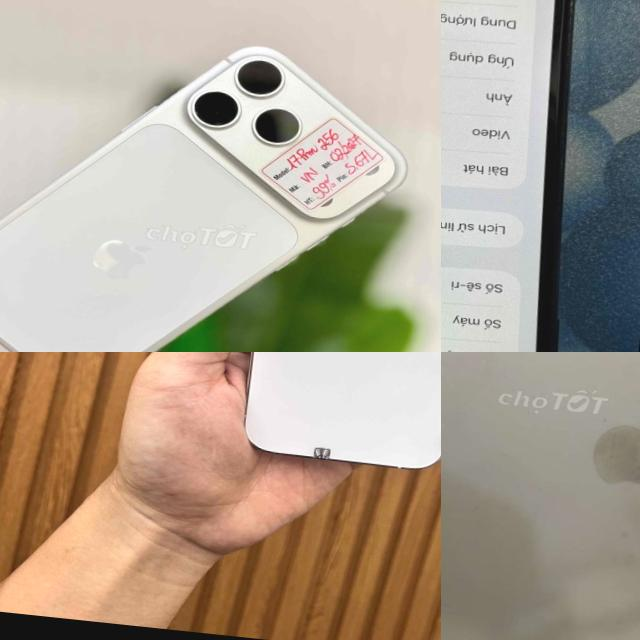gen_11: (441, 0, 575, 352)
gen_14: (230, 352, 441, 488)
gen_17: (0, 7, 429, 352)
gen_7_8: (441, 352, 640, 640)
